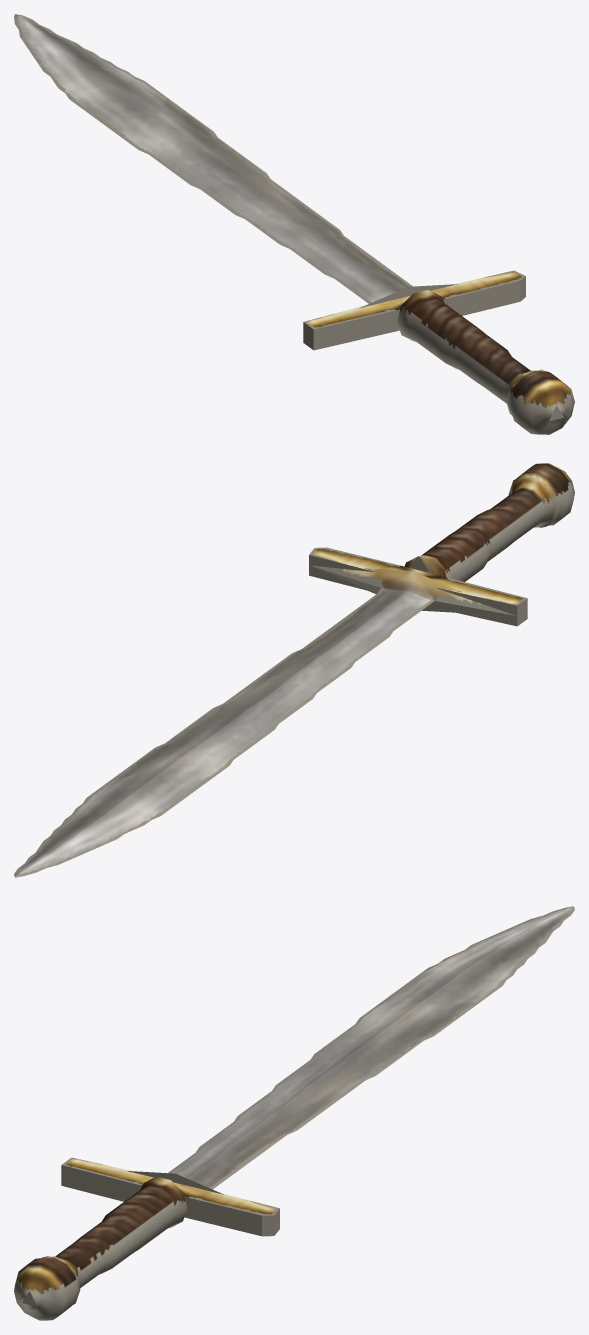
Rendered from item_mm9_10009.glb.
3 views of the same model, one above another, from view 1: azimuth 30°, elevation 25°; view 2: azimuth 150°, elevation 25°; view 3: azimuth 330°, elevation 25° (orthographic).
Parts seen in each view (by area): view 1: d10009; view 2: d10009; view 3: d10009.
Boxes of the visible parts, box(x1,y1,x2,y2) form: d10009: box(14, 14, 574, 434); d10009: box(14, 463, 574, 877); d10009: box(14, 906, 574, 1320).
Size of the model in its own units: 32.15 by 8.15 by 142.
Materials: 1 (1 with a texture image).
